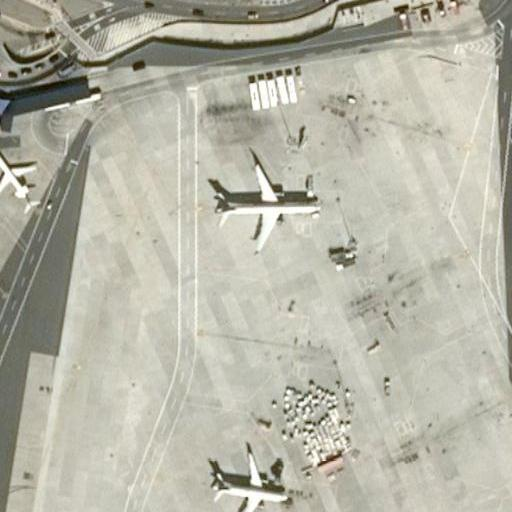Aircraft: (209, 150, 321, 247), (211, 443, 292, 512), (0, 148, 35, 206)
